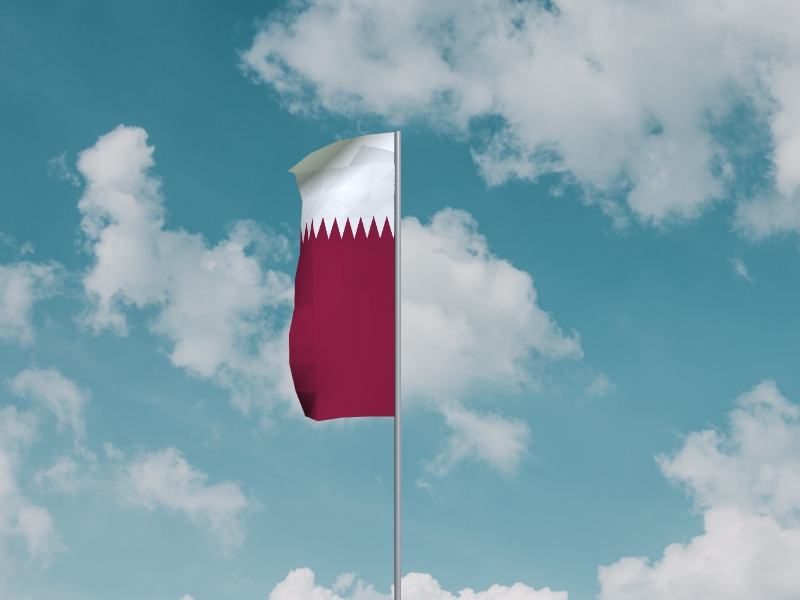qa: (288, 133, 395, 422)
